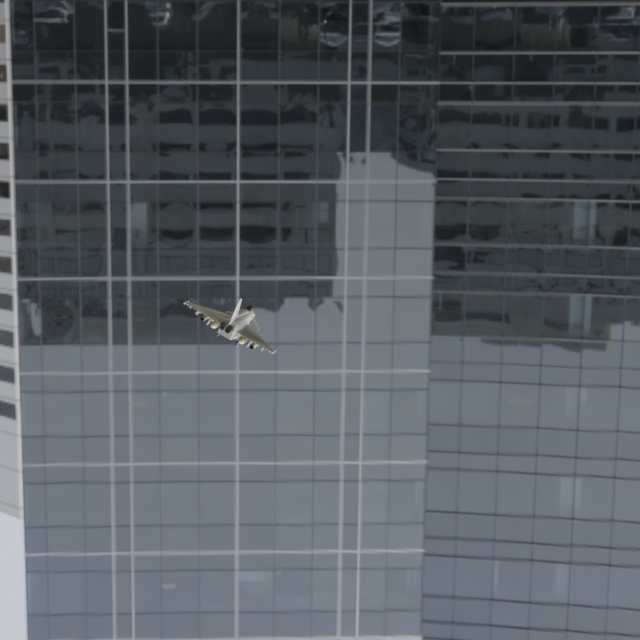eurofighter_typhoon_3d: (168, 262, 310, 375)
